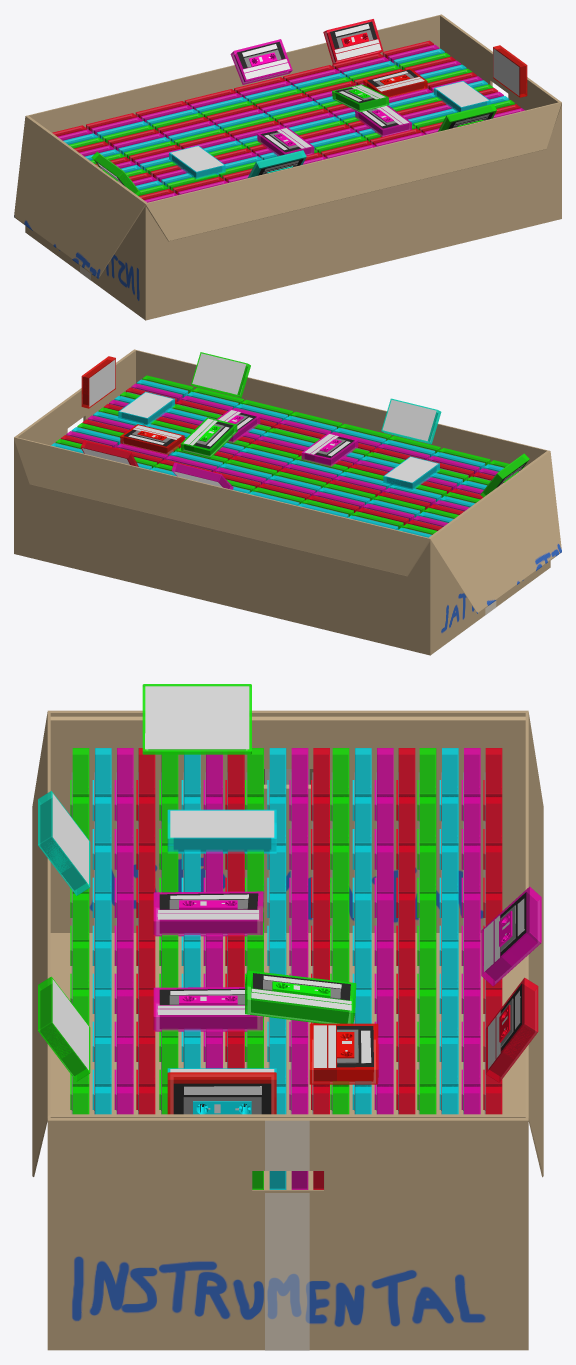
3 views of the same model, one above another, from view 1: azimuth 30°, elevation 25°; view 2: azimuth 150°, elevation 25°; view 3: azimuth 270°, elevation 25° (orthographic). The views are drawn at different scales.
Visible parts, largest first — view 1: Caja, Piso De Cassets, Cassete.004, Cassete.002, Cassete.010, Cassete.003, Cassete.011, Cassete.007, Cassete.005, Cassete, Cassete.008, Cassete.009 (+2 smaller); view 2: Caja, Piso De Cassets, Cassete.006, Cassete.009, Cassete.008, Cassete.010, Cassete.011, Cassete, Cassete.005, Cassete.003, Cassete.004, Cassete.002 (+2 smaller); view 3: Caja, Piso De Cassets, Scotch, Cassete.001, Cassete.003, Cassete, Cassete.008, Cassete.010, Cassete.007, Cassete.011, Cassete.004, Cassete.002 (+2 smaller).
Part boxes in pixels (bbox=[...]): Caja: bbox=[14, 14, 561, 320]; Piso De Cassets: bbox=[52, 40, 524, 202]; Cassete.004: bbox=[230, 39, 292, 84]; Cassete.002: bbox=[323, 19, 383, 64]; Cassete.010: bbox=[493, 45, 527, 97]; Cassete.003: bbox=[169, 145, 225, 179]; Cassete.011: bbox=[363, 68, 427, 97]; Cassete.007: bbox=[355, 105, 411, 136]; Cassete.005: bbox=[434, 81, 490, 112]; Cassete: bbox=[257, 127, 314, 156]; Cassete.008: bbox=[332, 84, 389, 112]; Cassete.009: bbox=[438, 103, 496, 131]; Caja: bbox=[14, 349, 561, 655]; Piso De Cassets: bbox=[51, 375, 523, 537]; Cassete.006: bbox=[381, 398, 441, 444]; Cassete.009: bbox=[191, 352, 250, 397]; Cassete.008: bbox=[180, 417, 237, 457]; Cassete.010: bbox=[81, 356, 115, 408]; Cassete.011: bbox=[120, 424, 184, 455]; Cassete: bbox=[301, 433, 358, 466]; Cassete.005: bbox=[118, 391, 174, 425]; Cassete.003: bbox=[383, 456, 439, 490]; Cassete.004: bbox=[171, 462, 233, 489]; Cassete.002: bbox=[80, 440, 138, 466]; Caja: bbox=[32, 710, 543, 1350]; Piso De Cassets: bbox=[70, 748, 502, 1189]; Scotch: bbox=[265, 769, 309, 1350]; Cassete.001: bbox=[142, 684, 251, 754]; Cassete.003: bbox=[167, 809, 276, 853]; Cassete: bbox=[153, 891, 263, 936]; Cassete.008: bbox=[245, 970, 356, 1023]; Cassete.010: bbox=[167, 1072, 276, 1114]; Cassete.007: bbox=[153, 987, 263, 1031]; Cassete.011: bbox=[309, 1023, 378, 1084]; Cassete.004: bbox=[481, 886, 541, 986]; Cassete.002: bbox=[485, 977, 538, 1082].
Size of the model in its own units: 337 by 96.08 by 167.
862 materials, 1 textured.
